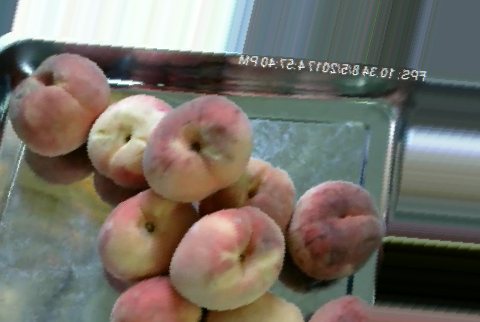Peach: (168, 206, 285, 313), (142, 93, 251, 201), (7, 53, 112, 156), (96, 187, 200, 283), (288, 178, 384, 281), (86, 93, 173, 190)
